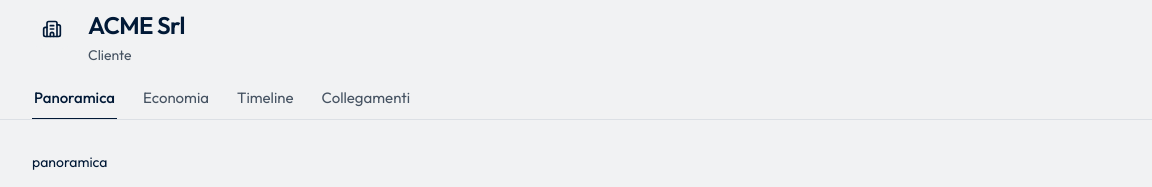
Test: EntityDetailLayout › shows an Economia tab with its own contents when economics is given
Click the tab "Economia".
click(176, 103)  # box [141,87,211,120]
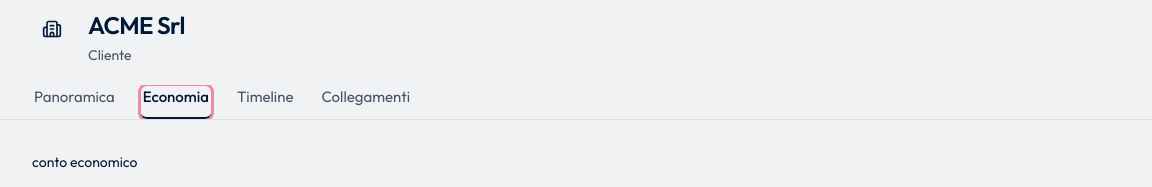
Check: the text "conto economico" is shown, box [32,152,138,170]
